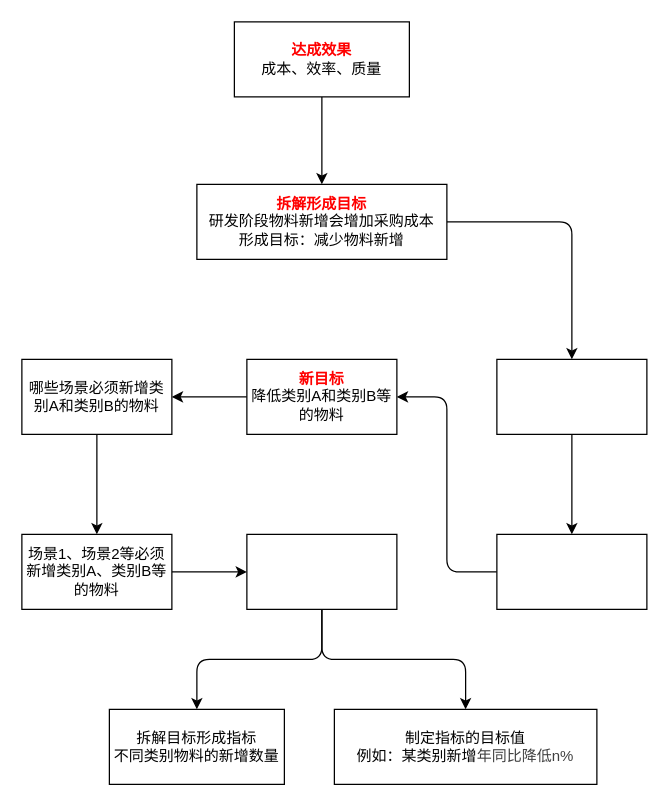
Image size: 669x806. Some labels were removed from this diagram. The shapes that lost their labels are listed below. From the top down, each one's box as (x1, y1, x2, y2) in pixels, then its label:
(496, 358, 647, 434): 分析哪些类别物料的新增会导致成本增加
(246, 533, 397, 609): 最终落地的目标 排除场景1、场景2等情况下减低类别A、类别B等的物料新增
(496, 533, 647, 609): 类别A、类别B等的物料新增导致成本增加
